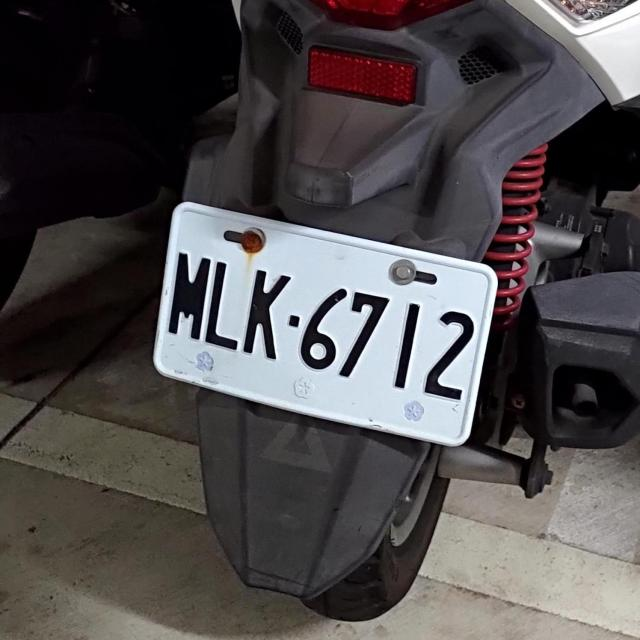W: (140, 202, 506, 452)
